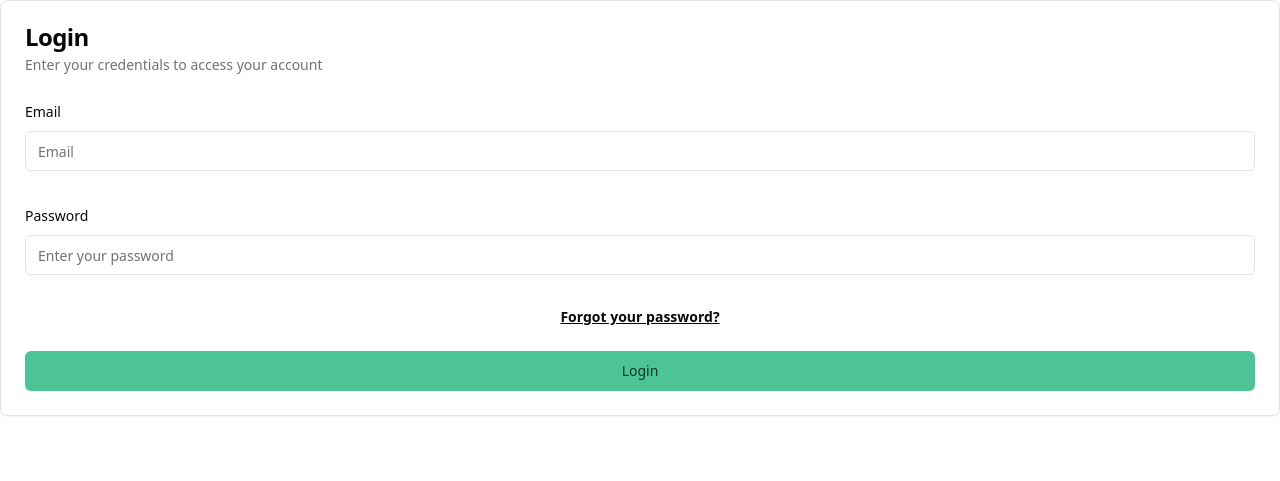
Test: LoginForm › displays validation errors for empty fields
What coordinates should you click on to do the following:
click the button "Login"
I would click on:
 (640, 371)
Its box is x1=25 y1=351 x2=1255 y2=391.
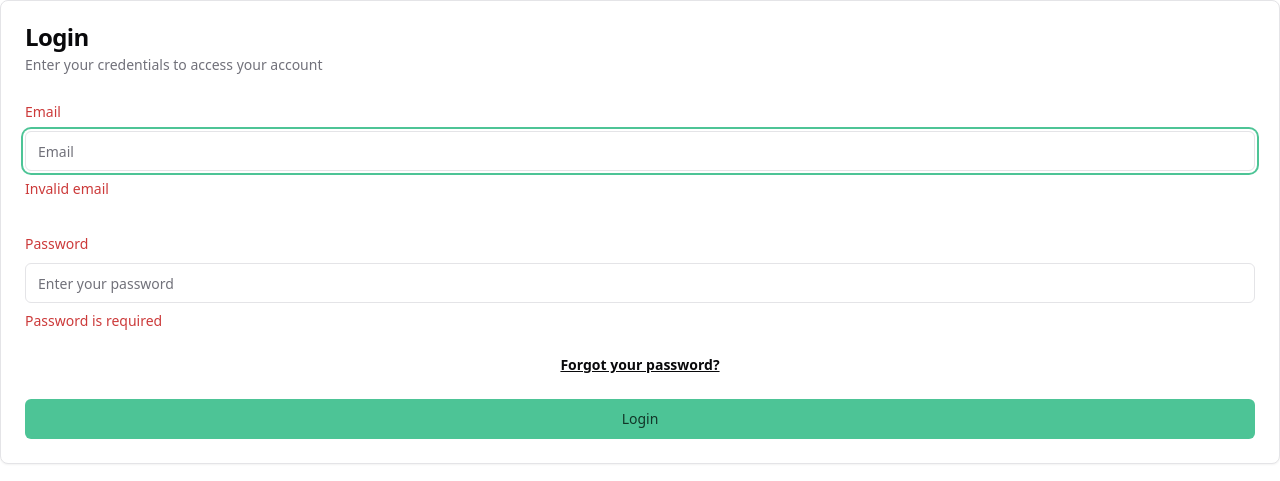
Expected: the text "Invalid email" is shown, x1=25 y1=179 x2=109 y2=198
Expected: the text "Password is required" is shown, x1=25 y1=311 x2=162 y2=330
